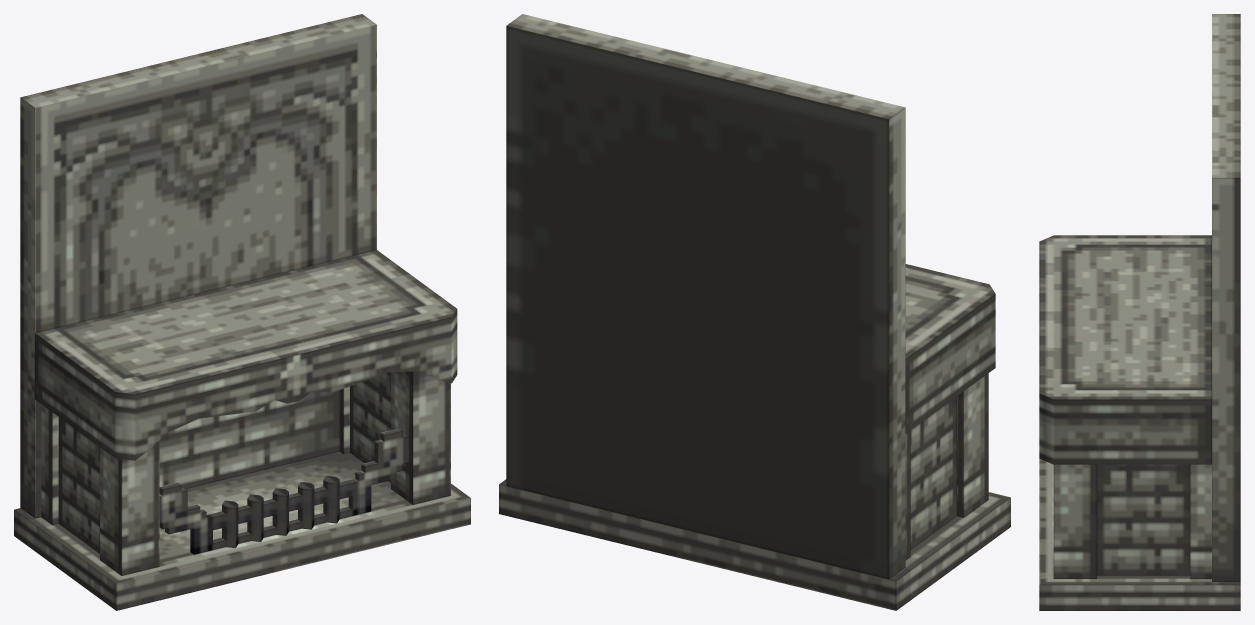
File: ObjMD_Fireplace_D.FBX
The picture shows the model from 3 angles, left to right: view 1: azimuth 30°, elevation 25°; view 2: azimuth 150°, elevation 25°; view 3: azimuth 270°, elevation 25°; orthographic projection. The views are drawn at different scales.
Parts seen in each view (by area): view 1: ObjMD_Fireplace_D; view 2: ObjMD_Fireplace_D; view 3: ObjMD_Fireplace_D.
Boxes of the visible parts, x1,y1,x2,y2 form: ObjMD_Fireplace_D: [14, 14, 470, 610]; ObjMD_Fireplace_D: [499, 14, 1010, 610]; ObjMD_Fireplace_D: [1039, 14, 1240, 610].
Size of the model in its own units: 350 by 412 by 175.
